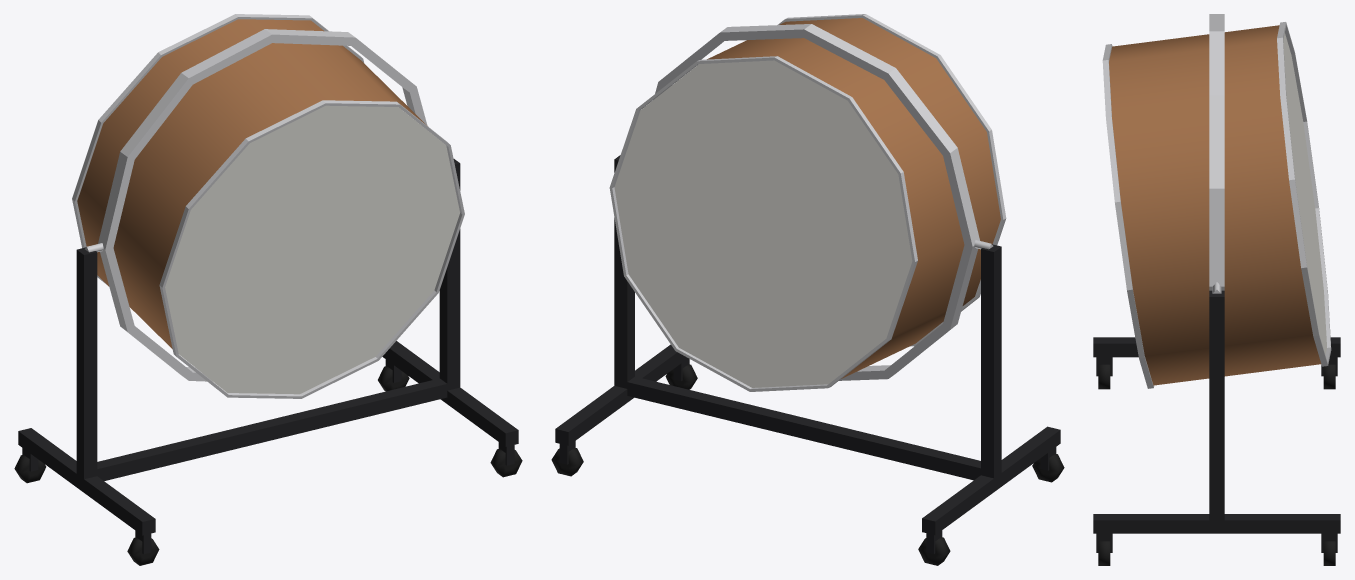
File: concert-bass-36-low.glb
3 renders of one model, left to right at view 1: azimuth 30°, elevation 25°; view 2: azimuth 150°, elevation 25°; view 3: azimuth 270°, elevation 25°, orthographic.
Visible parts, largest first — view 1: head, shell-wood, frame, metal, rubber; view 2: head, shell-wood, frame, metal, rubber; view 3: shell-wood, metal, frame, head, rubber.
Part boxes in pixels (left/top/right/bottom): head: left=165, top=105, right=459, bottom=394; shell-wood: left=77, top=19, right=427, bottom=348; frame: left=18, top=159, right=518, bottom=554; metal: left=72, top=14, right=464, bottom=398; rubber: left=14, top=366, right=522, bottom=565; head: left=614, top=60, right=912, bottom=387; shell-wood: left=707, top=18, right=1000, bottom=378; frame: left=555, top=155, right=1060, bottom=553; metal: left=609, top=14, right=1006, bottom=391; rubber: left=551, top=364, right=1064, bottom=565; shell-wood: left=1109, top=25, right=1321, bottom=385; metal: left=1102, top=14, right=1331, bottom=388; frame: left=1093, top=290, right=1340, bottom=552; head: left=1283, top=33, right=1326, bottom=354; rubber: left=1098, top=364, right=1335, bottom=565.
Bounding box in the file's own units: 1.19 × 1.3 × 0.66.
